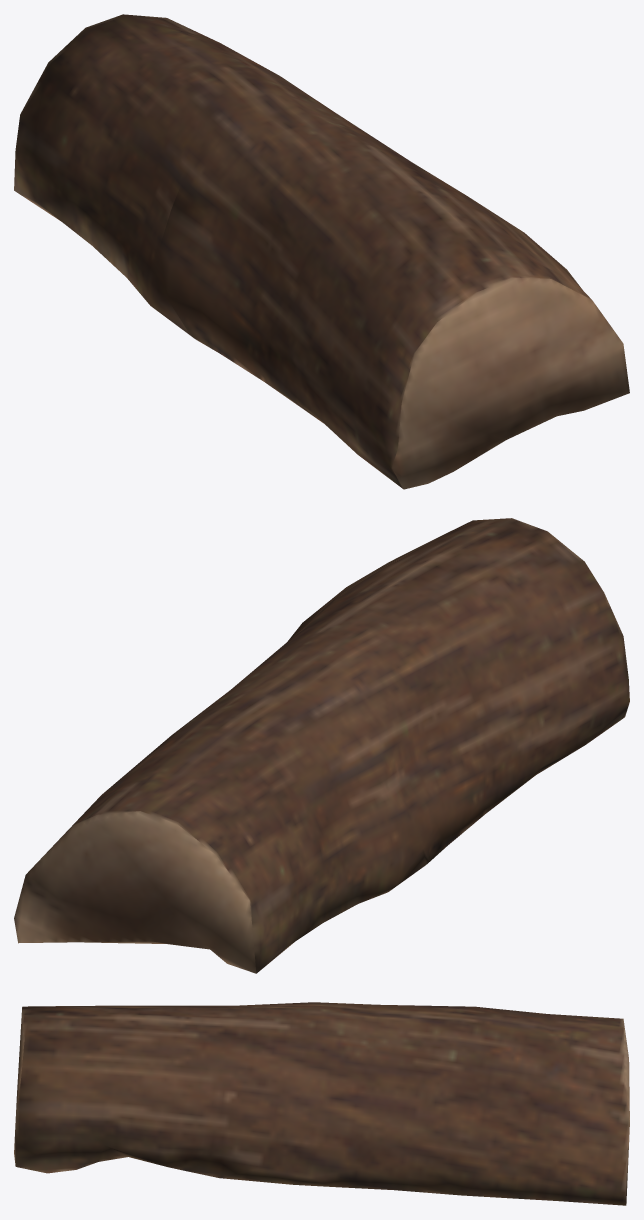
Rendered from SM_WoodPart_03.fbx.
The picture shows the model from 3 angles, top to bottom: view 1: azimuth 30°, elevation 25°; view 2: azimuth 150°, elevation 25°; view 3: azimuth 270°, elevation 25°; orthographic projection. The views are drawn at different scales.
Parts seen in each view (by area): view 1: SM_WoodPart_03_LOD0; view 2: SM_WoodPart_03_LOD0; view 3: SM_WoodPart_03_LOD0.
Part boxes in pixels (box(x1,y1,x2,y2)): SM_WoodPart_03_LOD0: box(14, 14, 629, 489); SM_WoodPart_03_LOD0: box(14, 518, 629, 973); SM_WoodPart_03_LOD0: box(14, 1002, 629, 1205).
Size of the model in its own units: 8.05 by 20.99 by 5.55.
1 material, 1 textured.
